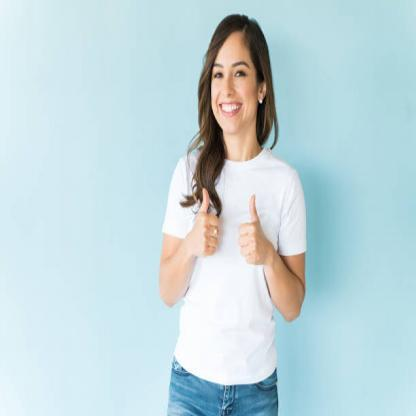thumb_up: (235, 192, 270, 268), (186, 185, 221, 258)
